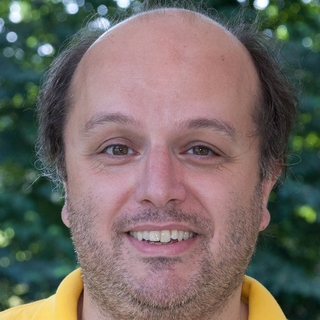eye: (172, 134, 228, 166), (86, 134, 144, 163)
